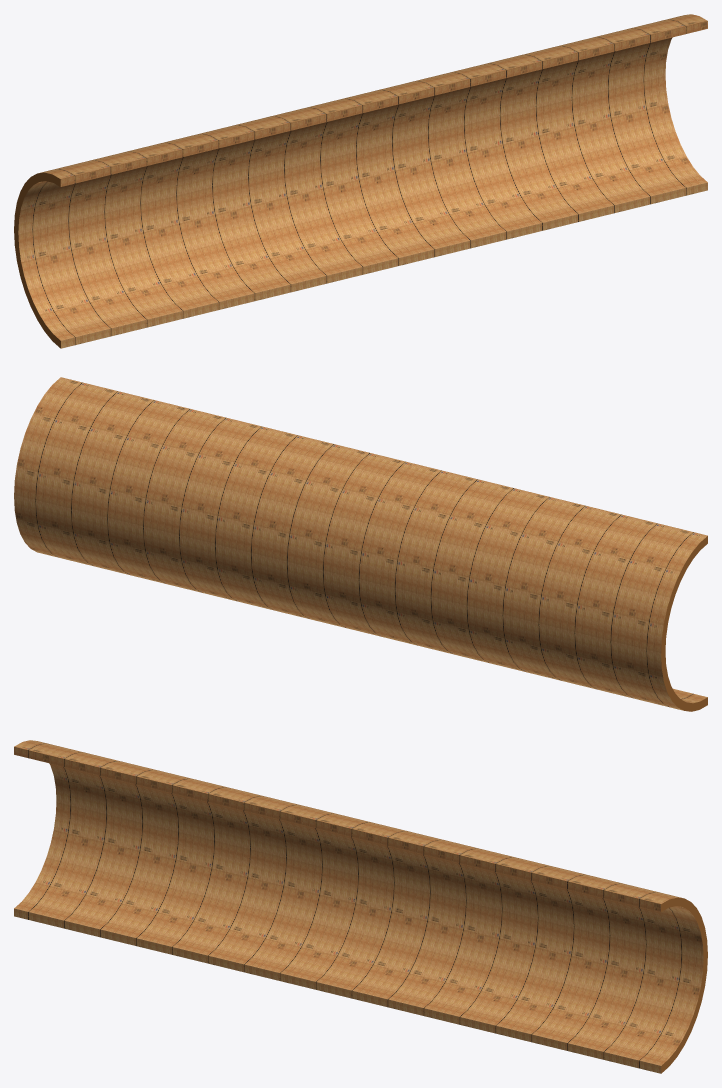
The model's file is SAMRTrack-12a.fbx.
The picture shows the model from 3 angles, top to bottom: view 1: azimuth 30°, elevation 25°; view 2: azimuth 150°, elevation 25°; view 3: azimuth 330°, elevation 25°; orthographic projection.
Visible parts, largest first — view 1: SAMRTrack-12a; view 2: SAMRTrack-12a; view 3: SAMRTrack-12a.
Boxes of the visible parts, x1=… form: SAMRTrack-12a: x1=14, y1=14, x2=707, y2=348; SAMRTrack-12a: x1=14, y1=377, x2=707, y2=711; SAMRTrack-12a: x1=14, y1=740, x2=707, y2=1073.
Size of the model in its own units: 112 by 28.25 by 14.11.
1 material, 1 textured.
